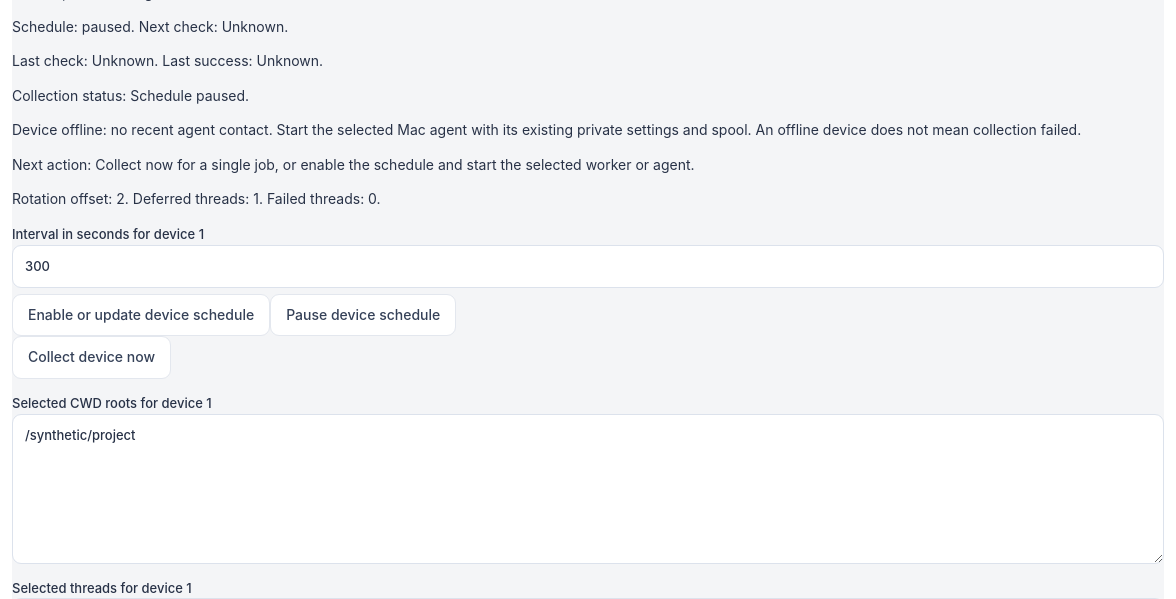
Test: queues offline work, enables a schedule and pauses it explicitly
The width and height of the screenshot is (1176, 599).
(page scrolled)
Click the button "Collect device now": (92, 358) 12,336 -> 171,379
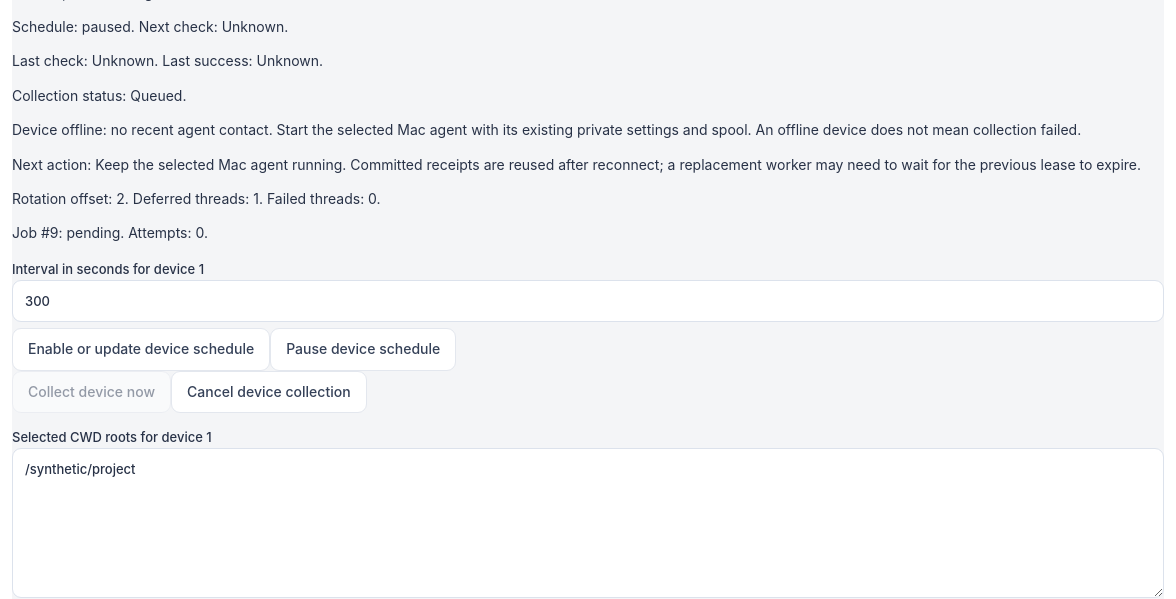
Expected: the text "Job #9: pending. Attempts: 0." is shown, 12,224 -> 208,241
Replace the text in the number field labelled "Interval in seconds for device 1" with "60": (588, 301) 12,280 -> 1164,322
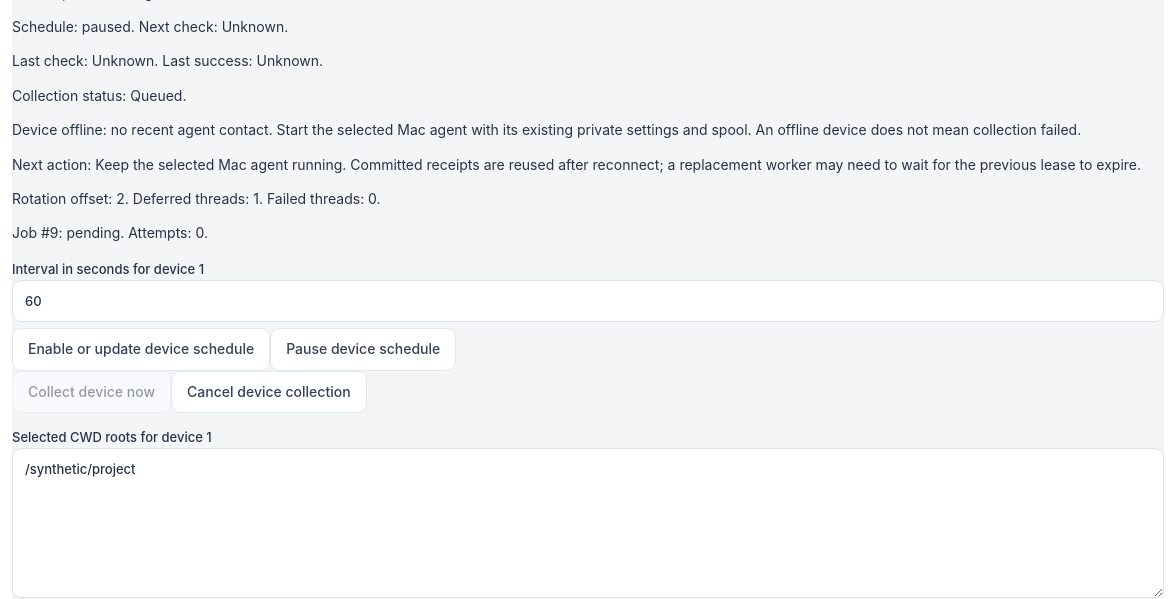
Click the button "Enable or update device schedule": (141, 350) 12,328 -> 270,371
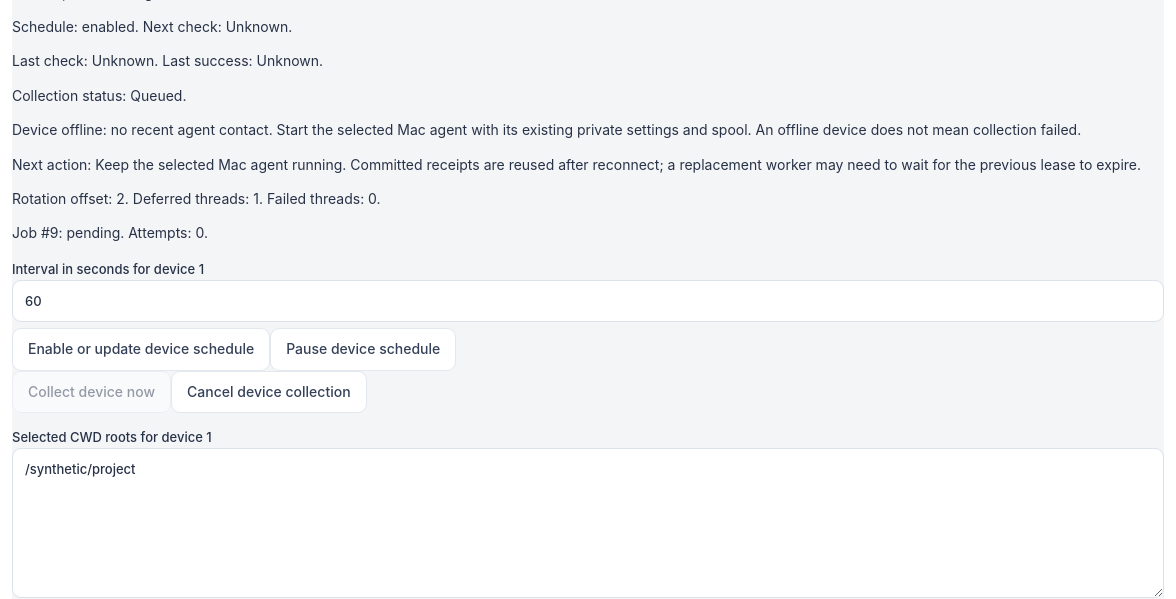
Expected: the text "Schedule: enabled. Next check: Unknown." is shown, 12,18 -> 292,35
Click the button "Pause device schedule": (363, 350) 270,328 -> 456,371
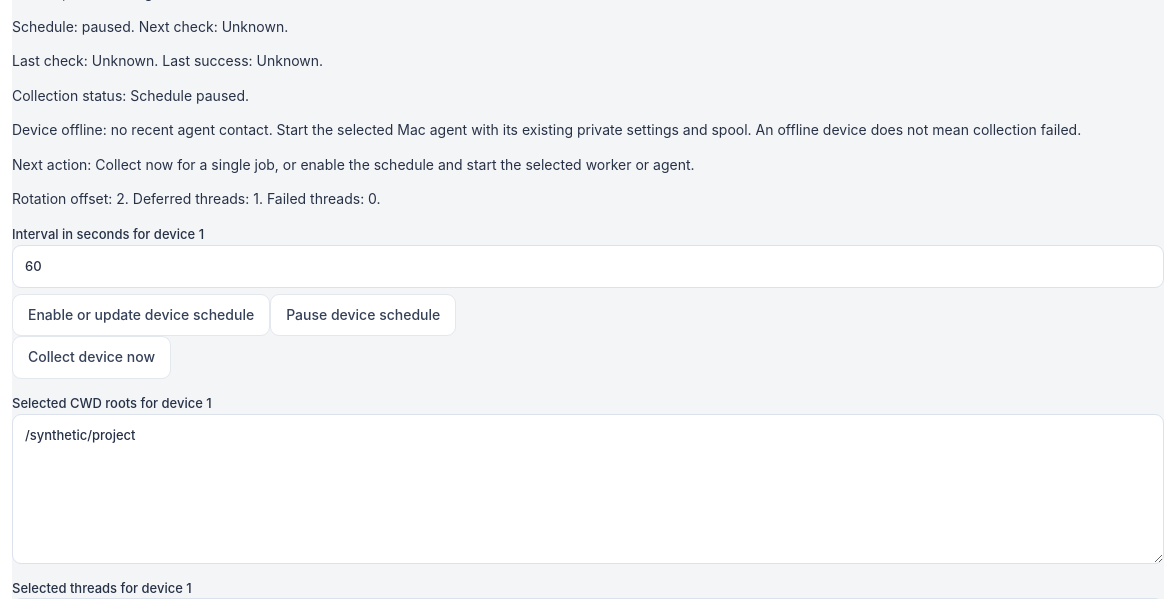
Expected: the text "Schedule: paused. Next check: Unknown." is shown, 12,18 -> 288,35
Expected: the text "Job #9" is gone
